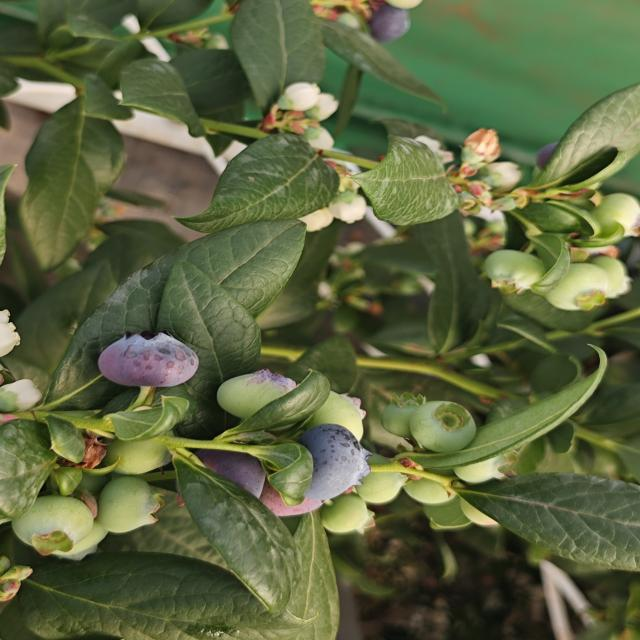ripe: (94, 328, 202, 391), (293, 422, 373, 504), (188, 438, 273, 512)
